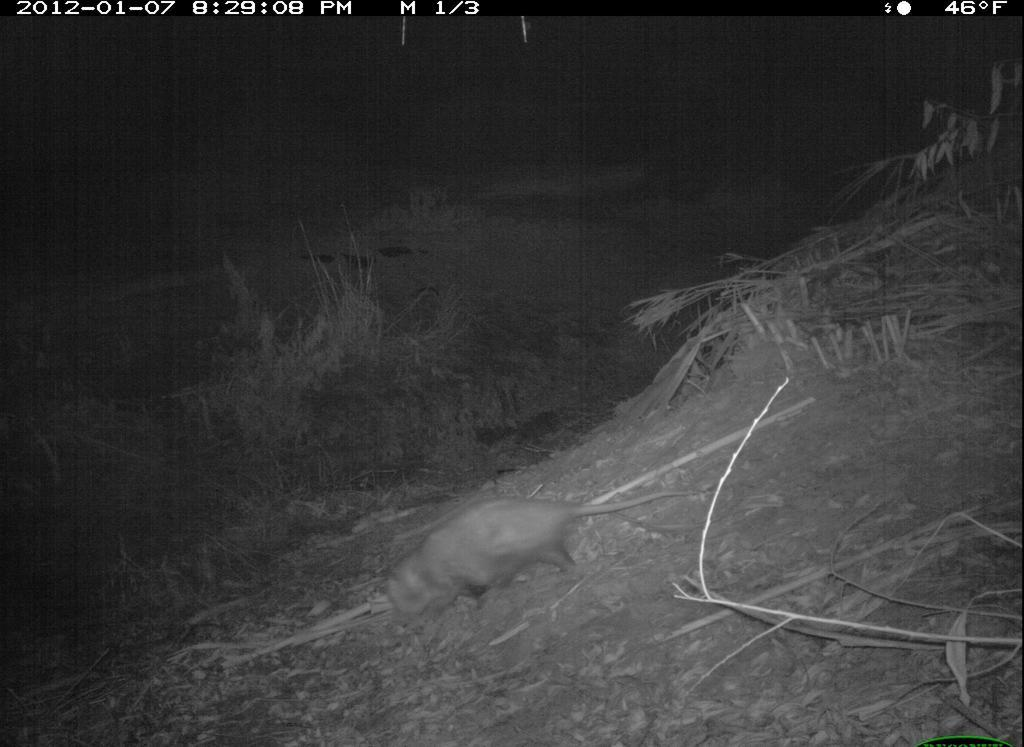opossum: (379, 486, 697, 625)
